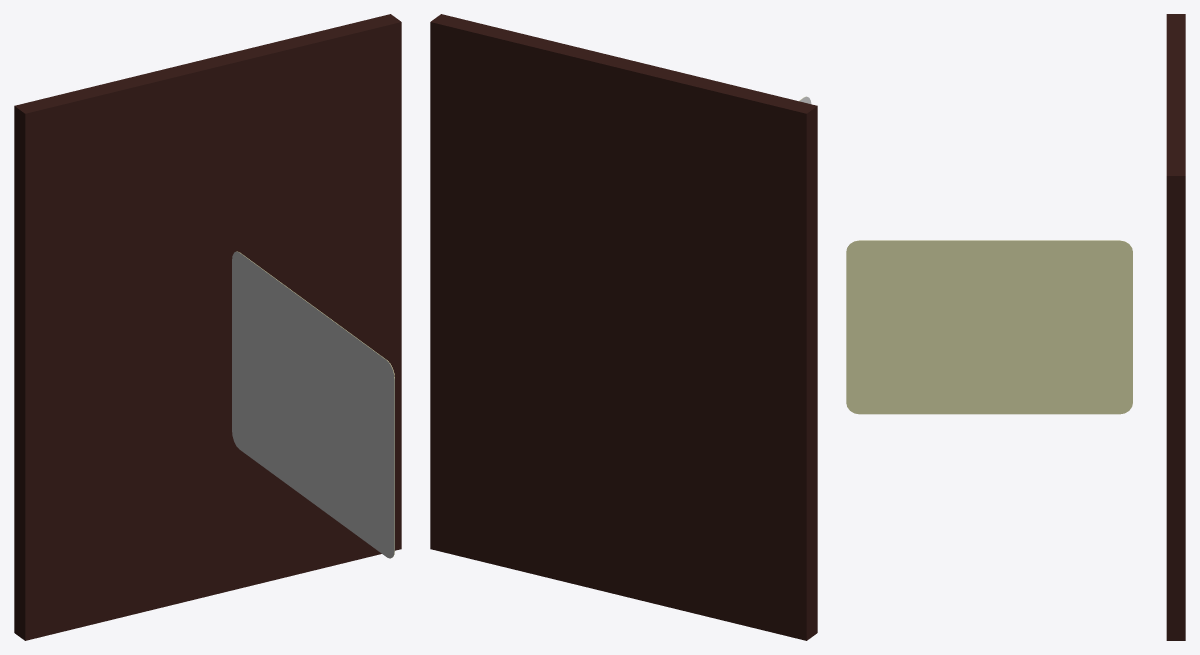
Rendered from Card.fbx.
3 renders of one model, left to right at view 1: azimuth 30°, elevation 25°; view 2: azimuth 150°, elevation 25°; view 3: azimuth 270°, elevation 25°, orthographic. The views are drawn at different scales.
Visible parts, largest first — view 1: Wall, Card; view 2: Wall; view 3: Card, Wall.
Boxes of the visible parts, bbox=[...] form: Wall: bbox=[14, 14, 401, 640]; Card: bbox=[232, 251, 394, 558]; Wall: bbox=[430, 14, 817, 640]; Card: bbox=[846, 240, 1132, 414]; Wall: bbox=[1166, 14, 1185, 640].
Size of the model in its own units: 400 by 535 by 354.
